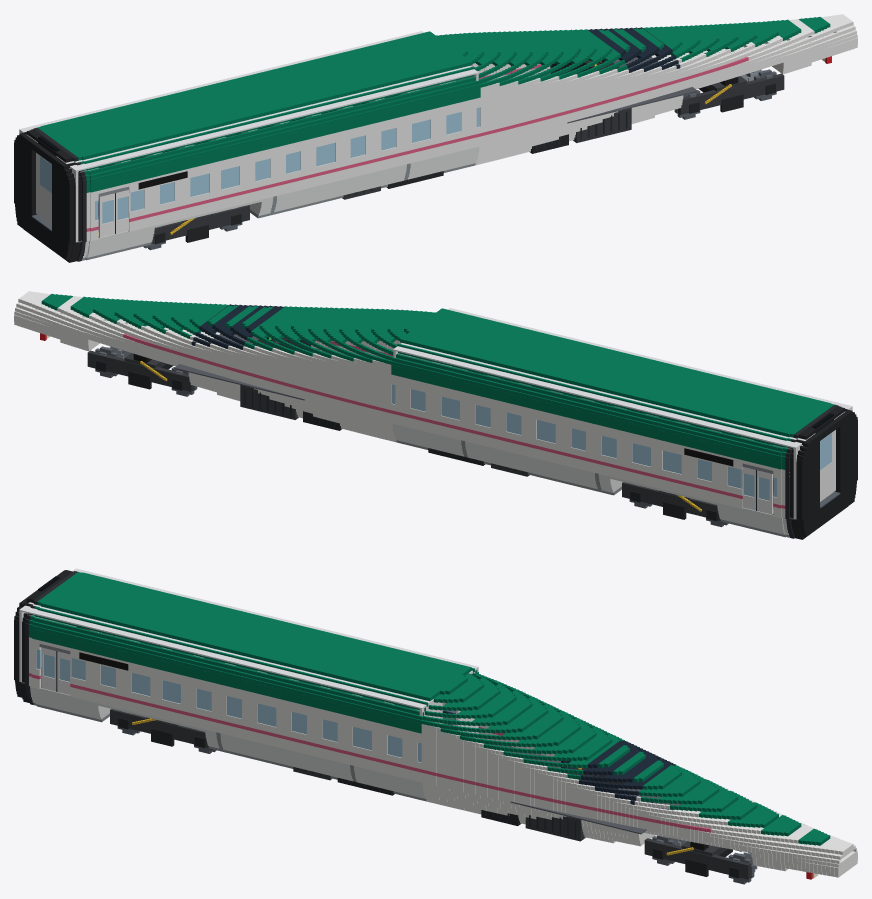
File: e5_front.obj
The picture shows the model from 3 angles, top to bottom: view 1: azimuth 30°, elevation 25°; view 2: azimuth 150°, elevation 25°; view 3: azimuth 330°, elevation 25°; orthographic projection.
Visible parts, largest first — view 1: SHELL, SHELL_ceiling, SHELL_diaphragm, BOGEY_FRONT, FRAME, BOGEY_REAR, CONNECTING_DOOR_1_CG_CR_TOGGLE_TL_0.98_Z, SHELL_end, EXTERNAL_DOOR_3_CG_DR1_TOGGLE_TL_-0.44_X, SHELL_floor, EXTERNAL_DOOR_4_CG_DR1_TOGGLE_TL_0.44_X; view 2: SHELL, SHELL_ceiling, SHELL_diaphragm, BOGEY_FRONT, FRAME, BOGEY_REAR, CONNECTING_DOOR_1_CG_CR_TOGGLE_TL_0.98_Z, SHELL_end, EXTERNAL_DOOR_6_CG_DL1_TOGGLE_TL_-0.44_X, SHELL_floor, EXTERNAL_DOOR_7_CG_DL1_TOGGLE_TL_0.44_X; view 3: SHELL, SHELL_ceiling, BOGEY_FRONT, FRAME, BOGEY_REAR, SHELL_floor, EXTERNAL_DOOR_3_CG_DR1_TOGGLE_TL_-0.44_X.
Boxes of the visible parts, left/top/right/bottom form: SHELL: left=23, top=14, right=857, bottom=262; SHELL_ceiling: left=22, top=31, right=476, bottom=171; SHELL_diaphragm: left=14, top=132, right=73, bottom=259; BOGEY_FRONT: left=677, top=73, right=784, bottom=114; FRAME: left=342, top=108, right=631, bottom=199; BOGEY_REAR: left=151, top=205, right=249, bottom=244; CONNECTING_DOOR_1_CG_CR_TOGGLE_TL_0.98_Z: left=38, top=154, right=51, bottom=224; SHELL_end: left=19, top=128, right=78, bottom=242; EXTERNAL_DOOR_3_CG_DR1_TOGGLE_TL_-0.44_X: left=99, top=193, right=115, bottom=237; SHELL_floor: left=77, top=57, right=697, bottom=242; EXTERNAL_DOOR_4_CG_DR1_TOGGLE_TL_0.44_X: left=116, top=190, right=130, bottom=233; SHELL: left=14, top=291, right=848, bottom=539; SHELL_ceiling: left=395, top=308, right=849, bottom=448; SHELL_diaphragm: left=798, top=409, right=857, bottom=536; BOGEY_FRONT: left=87, top=350, right=194, bottom=391; FRAME: left=240, top=385, right=529, bottom=476; BOGEY_REAR: left=622, top=482, right=720, bottom=521; CONNECTING_DOOR_1_CG_CR_TOGGLE_TL_0.98_Z: left=820, top=431, right=833, bottom=501; SHELL_end: left=793, top=405, right=852, bottom=519; EXTERNAL_DOOR_6_CG_DL1_TOGGLE_TL_-0.44_X: left=756, top=470, right=772, bottom=514; SHELL_floor: left=174, top=334, right=794, bottom=519; EXTERNAL_DOOR_7_CG_DL1_TOGGLE_TL_0.44_X: left=741, top=467, right=755, bottom=510; SHELL: left=18, top=570, right=857, bottom=877; SHELL_ceiling: left=21, top=569, right=475, bottom=708; BOGEY_FRONT: left=644, top=838, right=751, bottom=879; FRAME: left=293, top=767, right=585, bottom=841; BOGEY_REAR: left=110, top=709, right=208, bottom=747; SHELL_floor: left=21, top=668, right=680, bottom=833; EXTERNAL_DOOR_3_CG_DR1_TOGGLE_TL_-0.44_X: left=41, top=647, right=57, bottom=691.
Size of the model in its own units: 26.41 by 3.7 by 3.37.
Materials: 1 (1 with a texture image).
